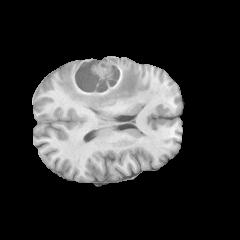glioma: (58, 58, 142, 110)
